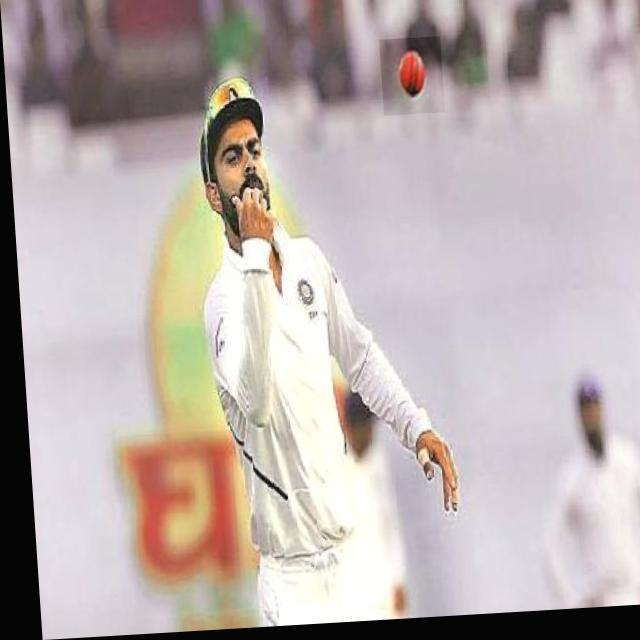-: (378, 41, 443, 120)
